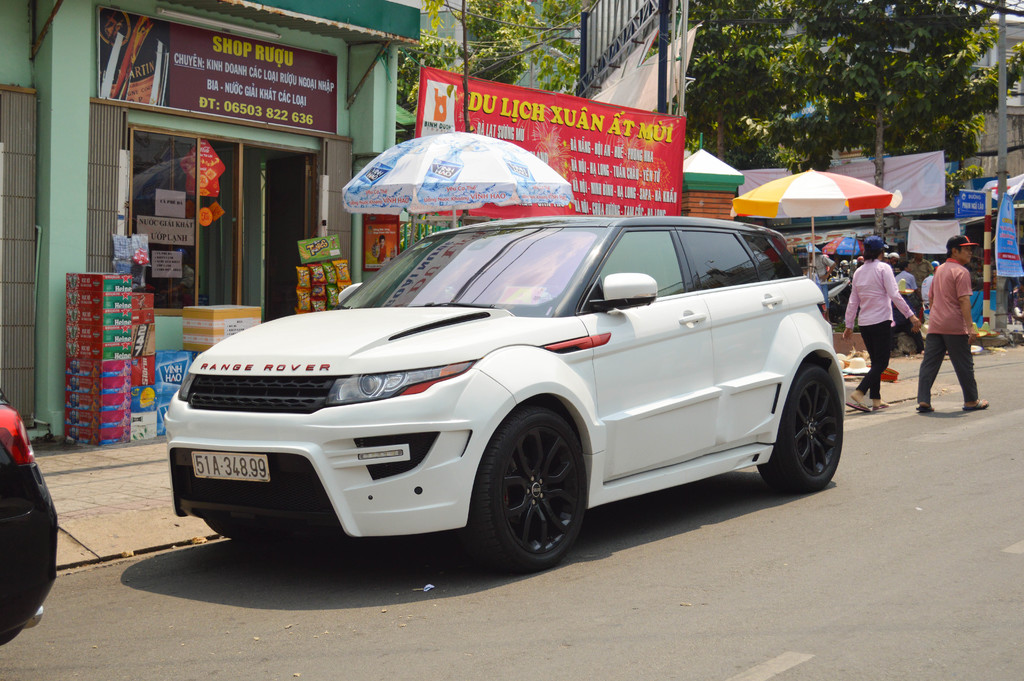Car: (163, 214, 845, 572), (0, 392, 56, 645)
